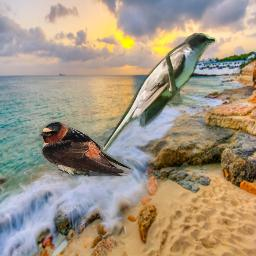Cuckoo: (96, 33, 215, 160)
Swallow: (39, 121, 134, 177)
